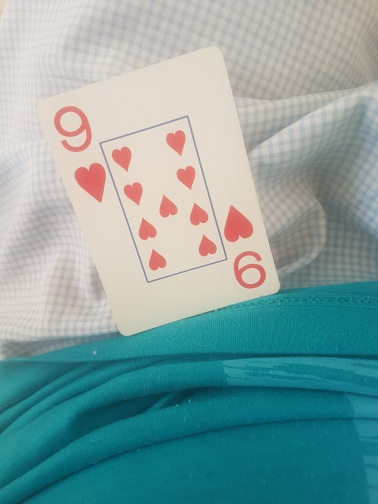nine: (34, 46, 282, 336)
